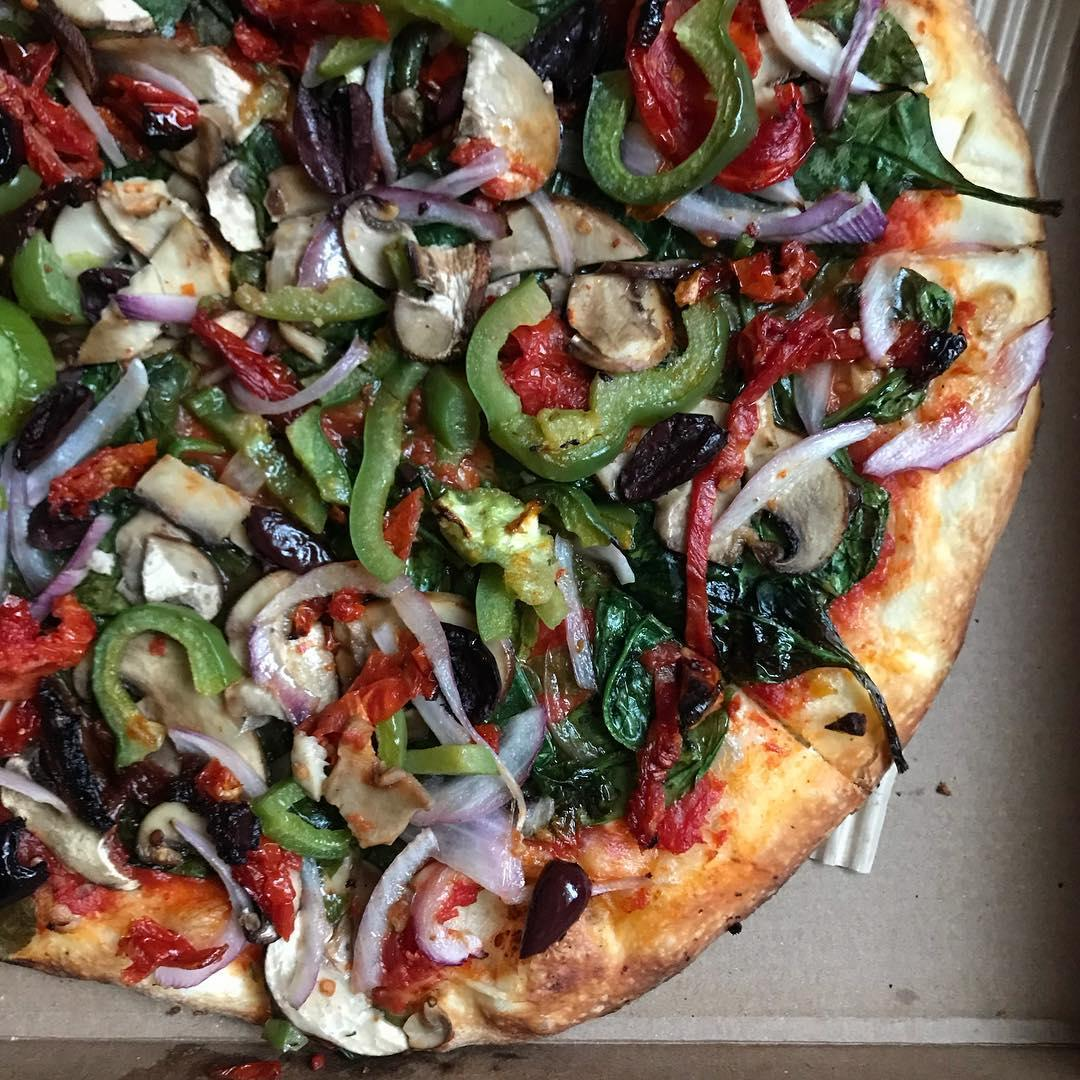Mushroom: (308, 171, 677, 376), (591, 405, 858, 583), (242, 856, 420, 1053), (78, 626, 274, 789), (444, 22, 568, 208), (73, 33, 262, 146), (214, 560, 347, 720), (0, 789, 138, 891), (117, 446, 254, 547), (101, 516, 231, 621), (21, 0, 105, 96)
Onion: (337, 700, 555, 1001), (218, 552, 471, 731), (165, 722, 319, 1002), (0, 362, 148, 634), (611, 114, 886, 254), (861, 308, 1056, 477), (686, 418, 882, 567), (751, 0, 895, 131), (351, 144, 520, 246), (122, 215, 237, 321), (834, 244, 925, 370)
Peppers: (464, 276, 742, 482), (576, 0, 758, 226), (89, 595, 249, 775), (190, 388, 363, 539), (348, 356, 437, 598), (470, 537, 574, 680), (518, 477, 645, 570), (416, 475, 541, 563), (0, 295, 64, 451), (371, 707, 504, 781), (227, 278, 390, 337), (399, 0, 550, 57), (256, 778, 356, 862), (2, 231, 94, 322), (425, 362, 493, 450)
Pizza: (0, 0, 1057, 1068)
